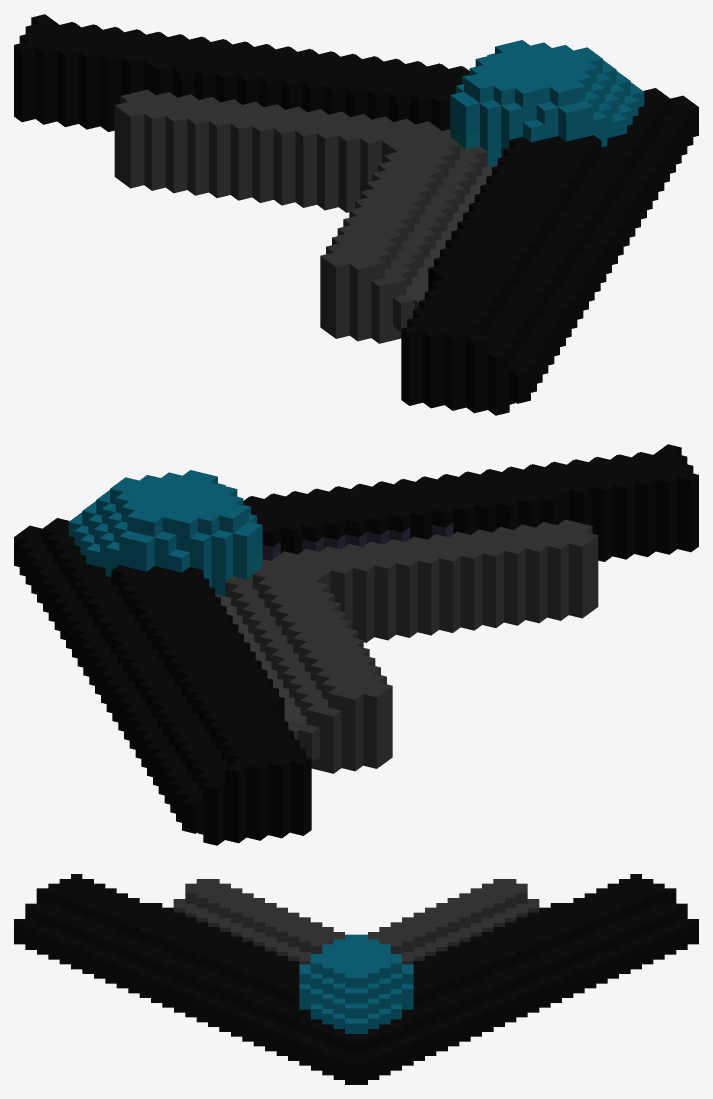
The model's file is Arrowhead.fbx.
3 views of the same model, one above another, from view 1: azimuth 30°, elevation 25°; view 2: azimuth 150°, elevation 25°; view 3: azimuth 270°, elevation 25° (orthographic). The views are drawn at different scales.
Visible parts, largest first — view 1: Arrowhead; view 2: Arrowhead; view 3: Arrowhead.
Boxes of the visible parts, x1=… form: Arrowhead: x1=14, y1=14, x2=698, y2=415; Arrowhead: x1=14, y1=444, x2=698, y2=845; Arrowhead: x1=14, y1=874, x2=698, y2=1084.
Bounding box in the file's own units: 3500 × 800 × 6000.
